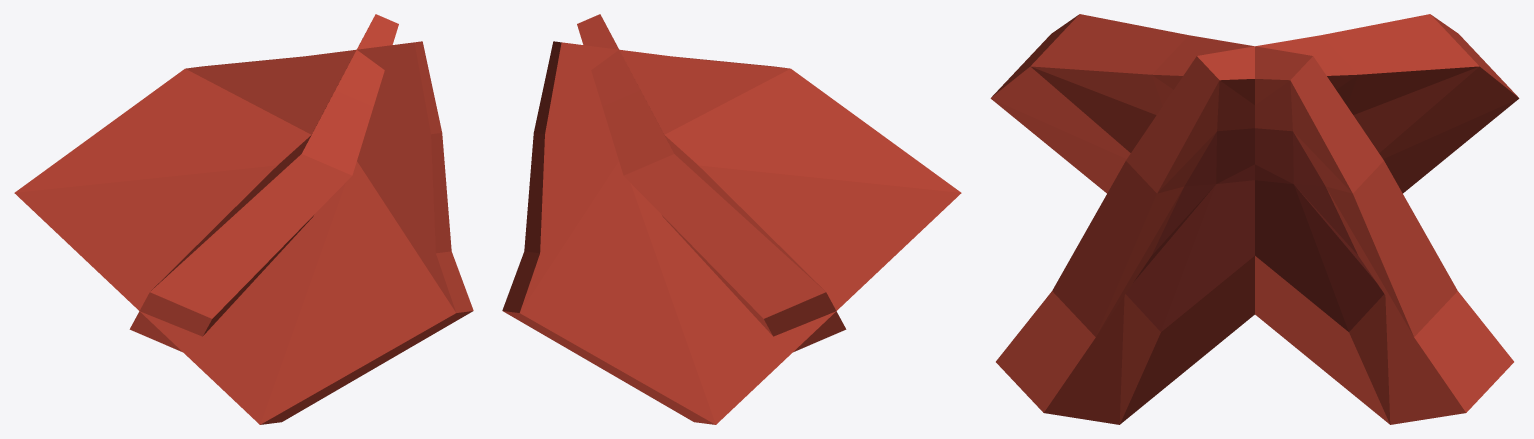
File: tf_pointed_small.glb
3 renders of one model, left to right at view 1: azimuth 30°, elevation 25°; view 2: azimuth 150°, elevation 25°; view 3: azimuth 270°, elevation 25°, orthographic. The views are drawn at different scales.
Visible parts, largest first — view 1: Ear_R, Ear_L; view 2: Ear_L, Ear_R; view 3: Ear_L, Ear_R.
Boxes of the visible parts, x1,y1,x2,y2 form: Ear_R: [14, 41, 473, 424]; Ear_L: [129, 14, 398, 352]; Ear_L: [502, 41, 961, 424]; Ear_R: [577, 14, 846, 352]; Ear_L: [990, 14, 1513, 424]; Ear_R: [996, 14, 1519, 424].
Bounding box in the file's own units: 0.0447 × 0.0419 × 0.0414.
Materials: 1 (1 with a texture image).
